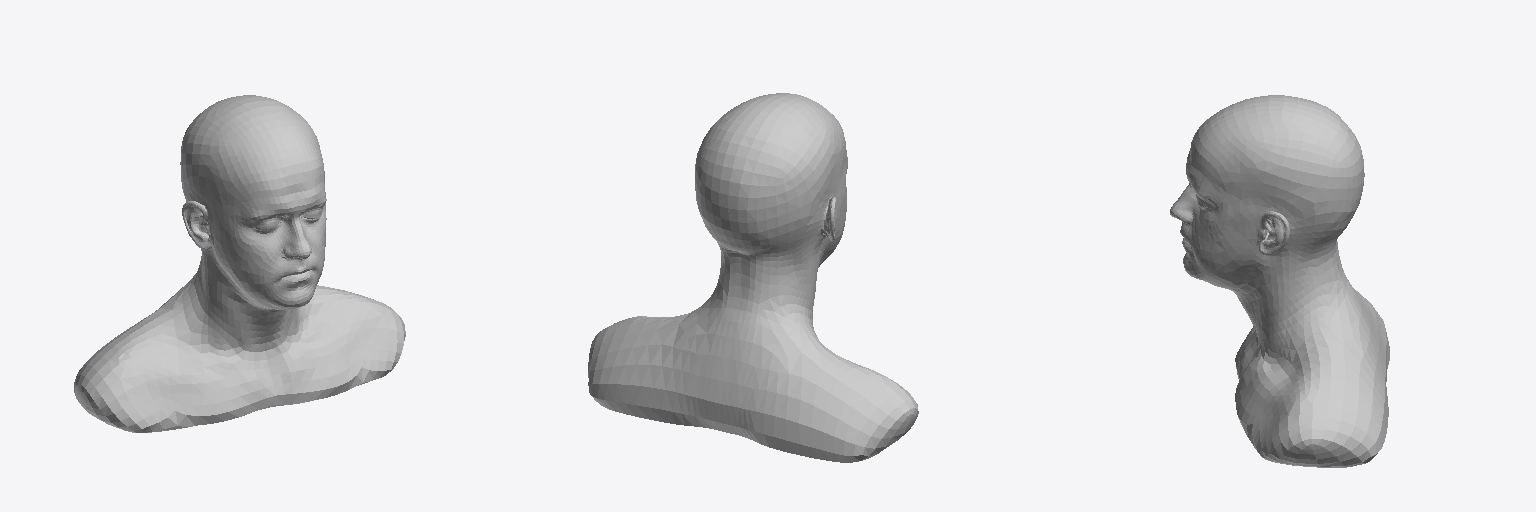
File: head2.obj
3 renders of one model, left to right at view 1: azimuth 30°, elevation 25°; view 2: azimuth 150°, elevation 25°; view 3: azimuth 270°, elevation 25°, orthographic.
Parts seen in each view (by area): view 1: head; view 2: head; view 3: head.
Boxes of the visible parts, <box> form: head: <box>74,95,405,432</box>; head: <box>588,93,918,462</box>; head: <box>1170,95,1389,467</box>.
Size of the model in its own units: 9.07 by 8.42 by 5.49.